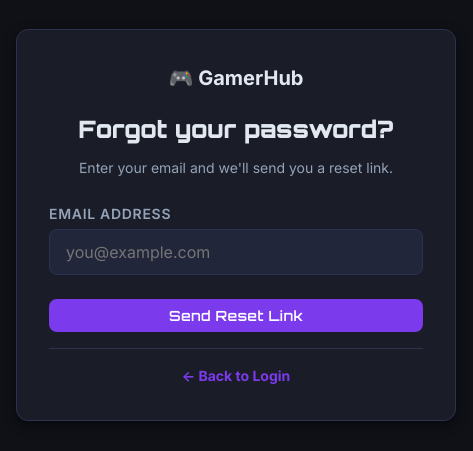
Scenario: ForgotPasswordPage — validation › clears the validation error when the user starts typing
Click the button "Send Reset Link": click(236, 316) [49, 299, 423, 332]
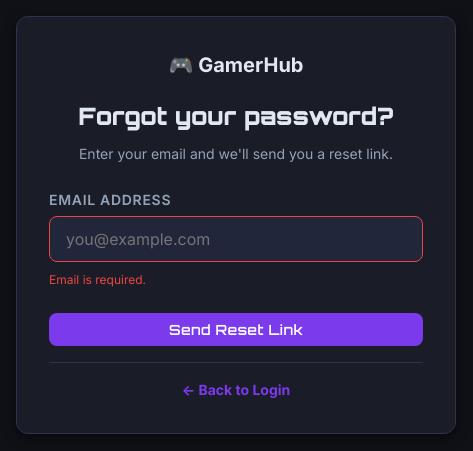
Check: the text "Email is required." is shown, box [49, 272, 146, 287]
In the field labelled "Email address": (236, 239) [49, 216, 423, 262], type "a"
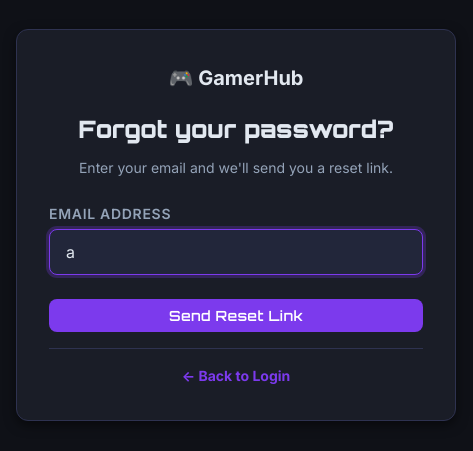
Check: the text "Email is required" is gone
